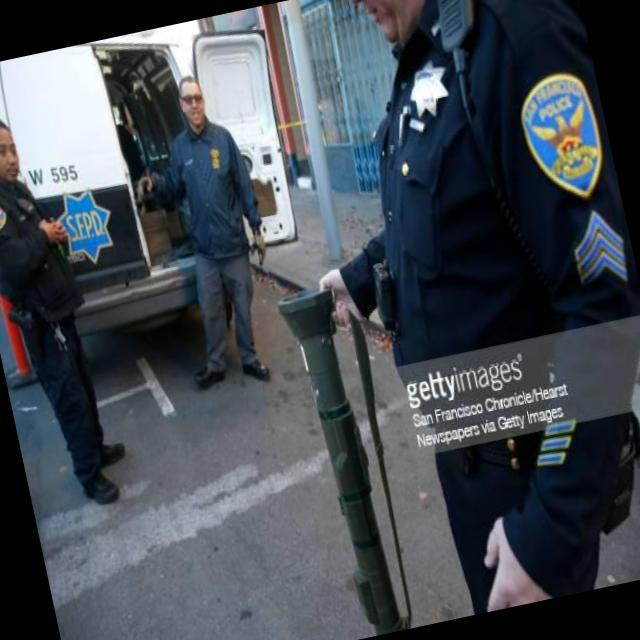rocket: (272, 273, 415, 633)
